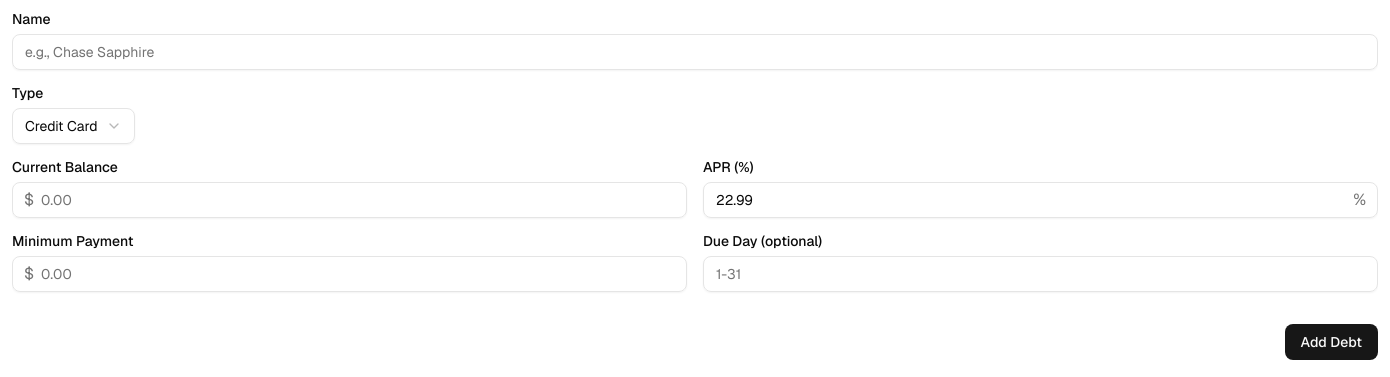
Test case: DebtForm › smart defaults › should auto-calculate minimum payment when balance is entered
The image size is (1390, 377).
Type "5000" into the number field with placeholder "0.00" below "Current Balance" at (350, 200), box [12,182,687,218]
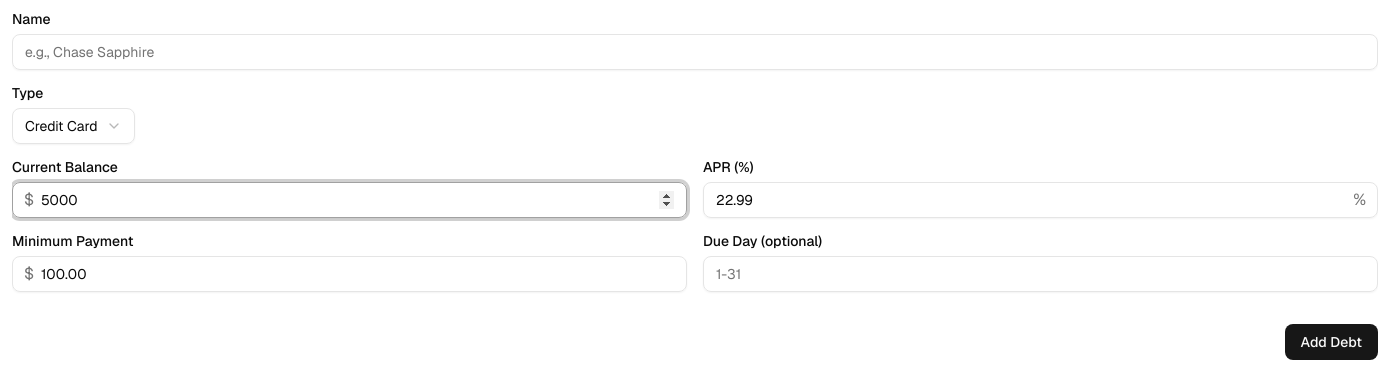
Now the number field with placeholder "0.00" below "Minimum Payment" holds "100", box [12,256,687,292]
